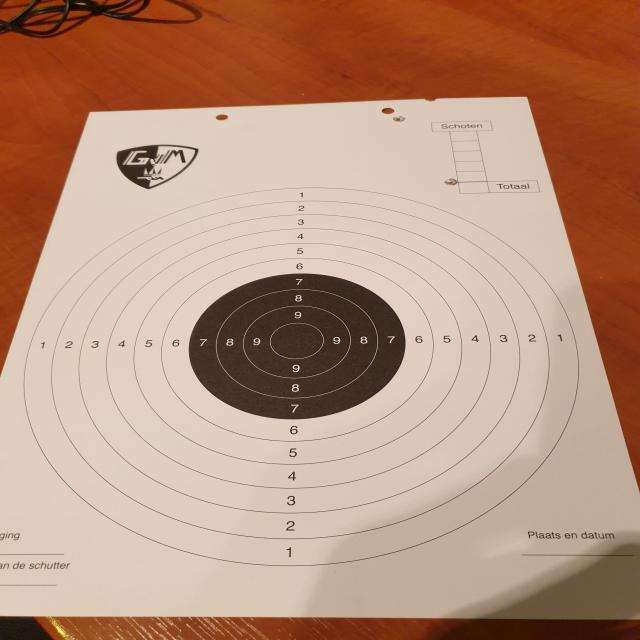0: (443, 176, 459, 186), (391, 114, 406, 124), (425, 98, 437, 102)
Target: (21, 185, 582, 568)
black_contour: (188, 273, 405, 420)
